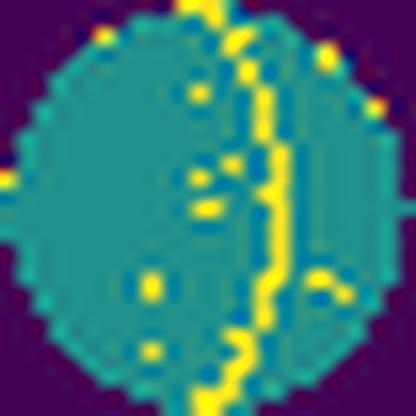Scratch: (173, 0, 300, 416)
